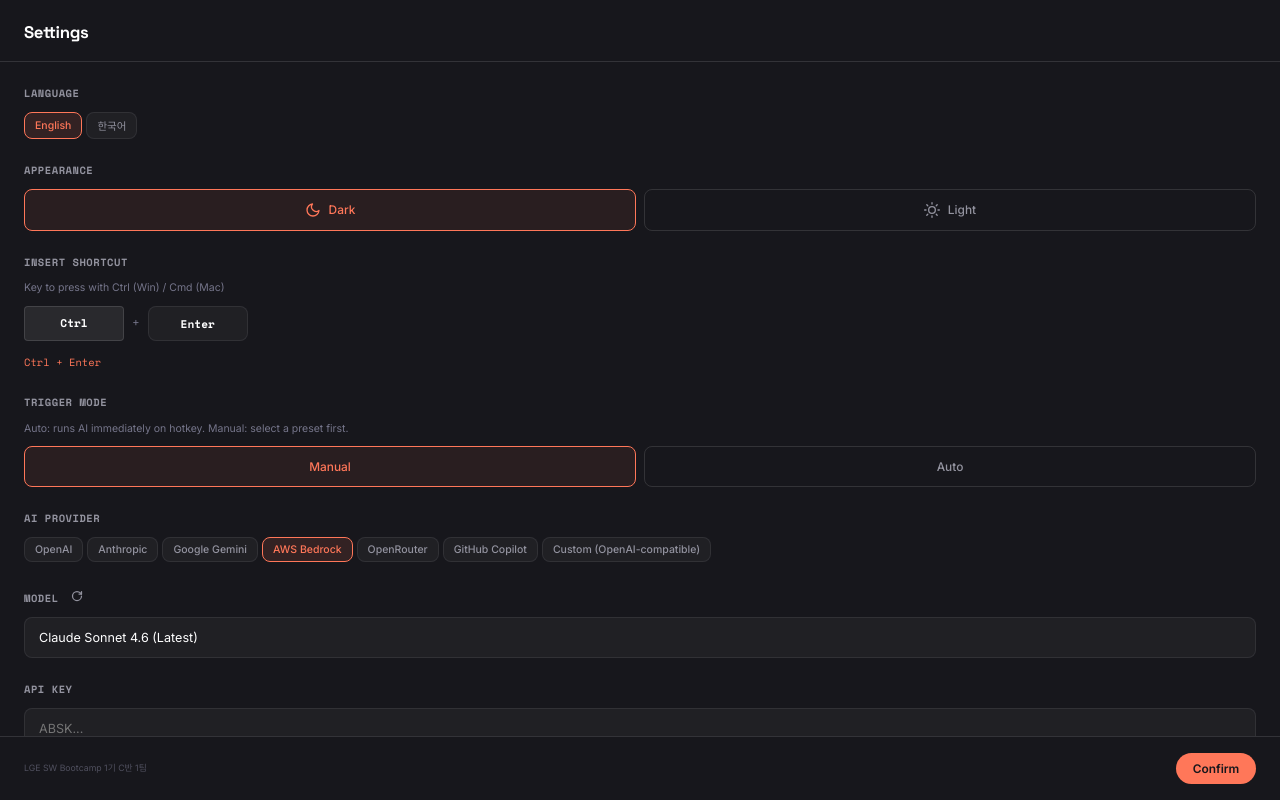
Scenario: SettingsWindow › provider selection › changing provider shows relevant fields
Step 1. Click the button "Custom (OpenAI-compatible)" → (626, 550), box [542,537,711,562]
(page scrolled)
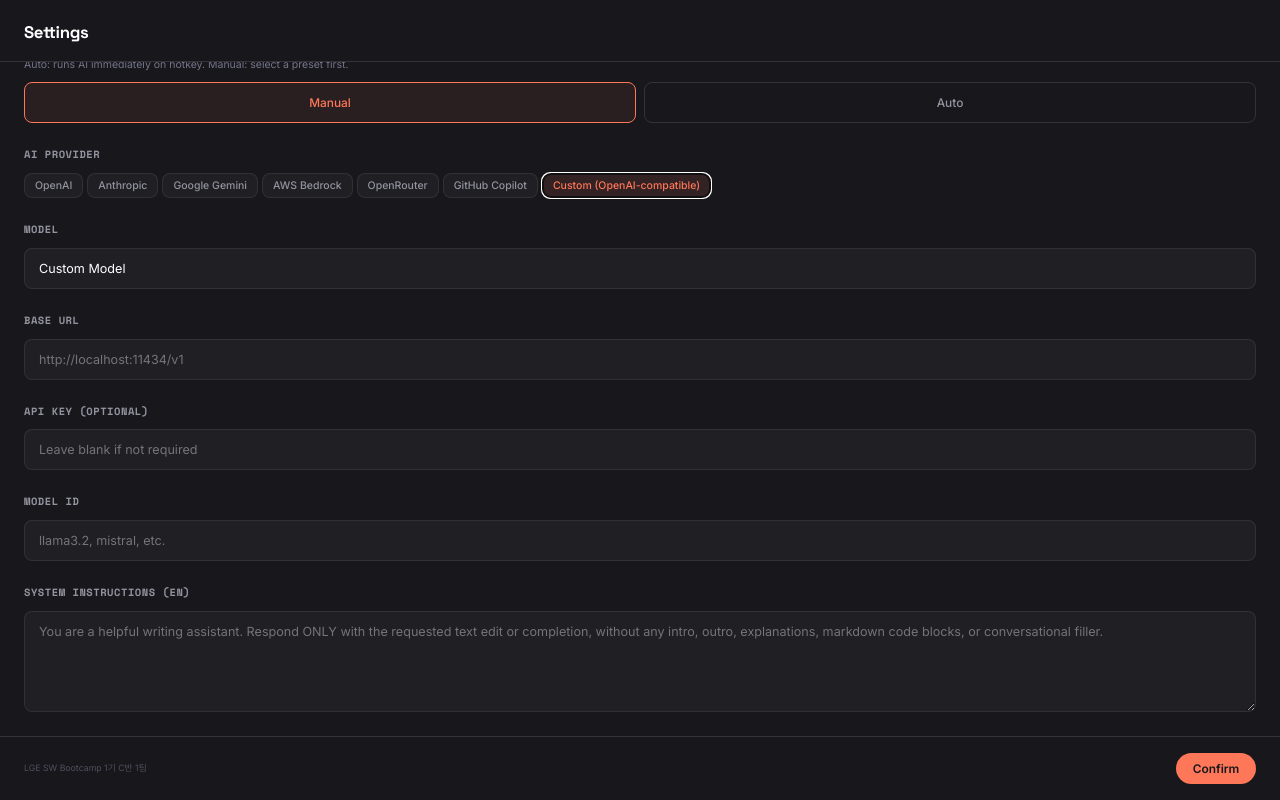
expect the field with placeholder "http://localhost:11434/v1" is shown: met, box [24,339,1256,380]
expect the field with placeholder "llama3.2, mistral, etc." is shown: met, box [24,520,1256,561]
